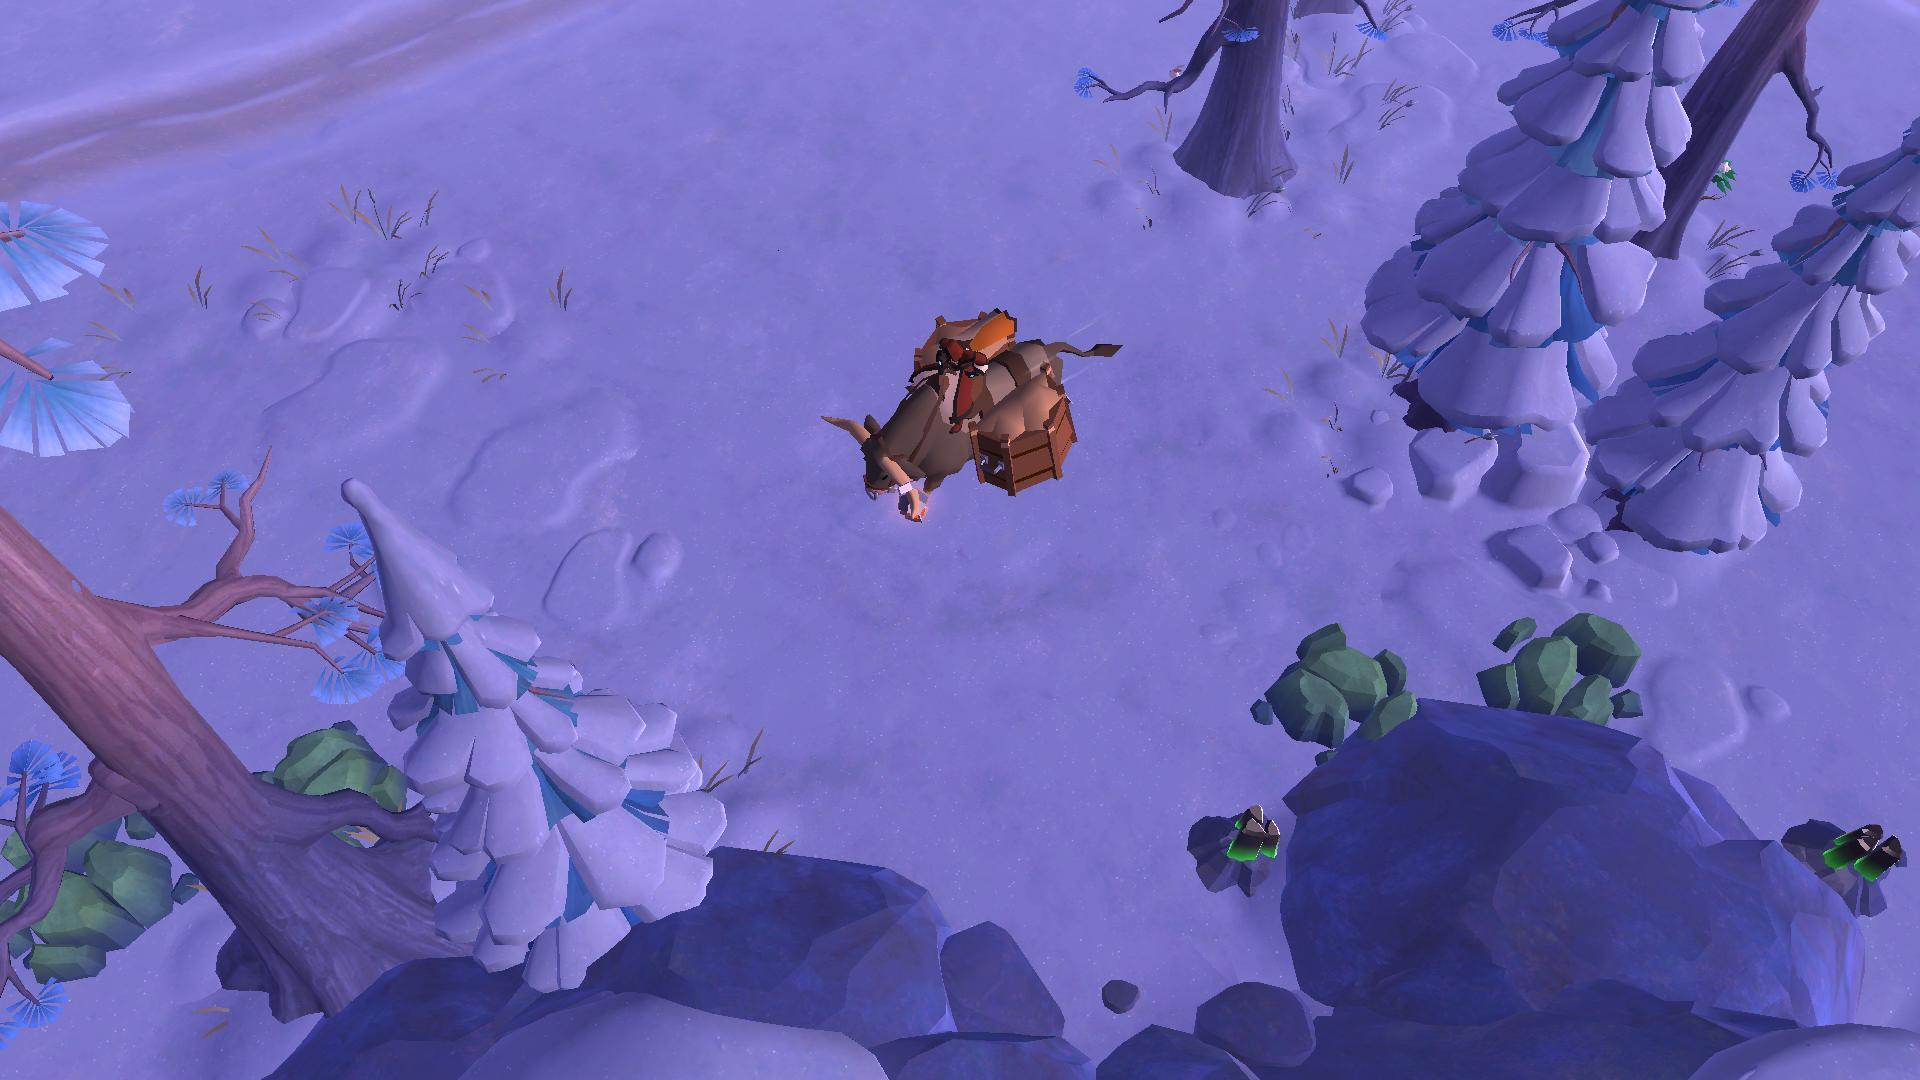ore_t3: (1822, 814, 1907, 884), (1221, 800, 1288, 869)
rock_t3: (0, 803, 202, 990), (1246, 617, 1428, 754), (1480, 595, 1647, 742), (269, 720, 406, 837)
